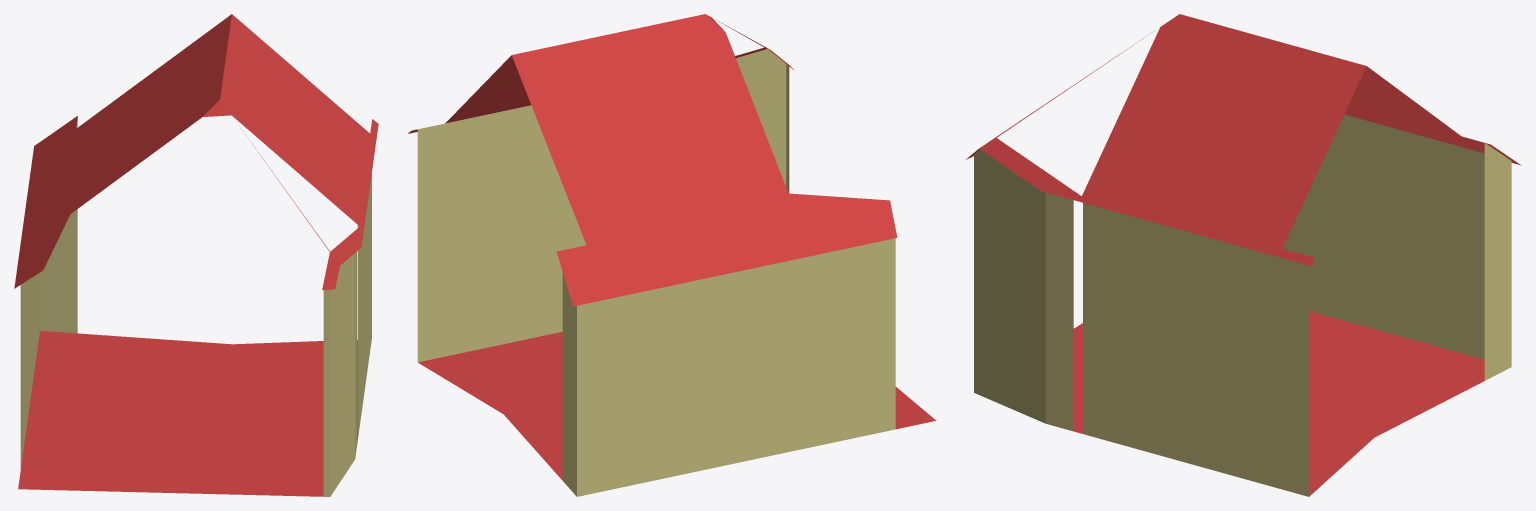
The picture shows the model from 3 angles, left to right: view 1: azimuth 30°, elevation 25°; view 2: azimuth 150°, elevation 25°; view 3: azimuth 270°, elevation 25°; orthographic projection. The views are drawn at different scales.
Bounding box in the file's own units: 19.32 × 19.71 × 14.42.
